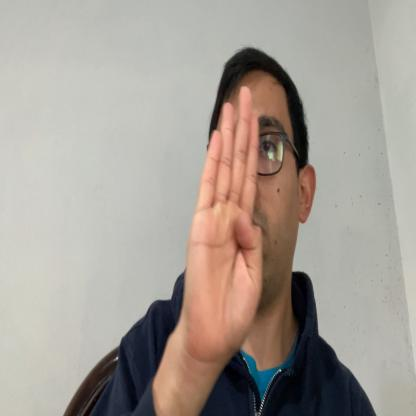B: (182, 88, 265, 358)
